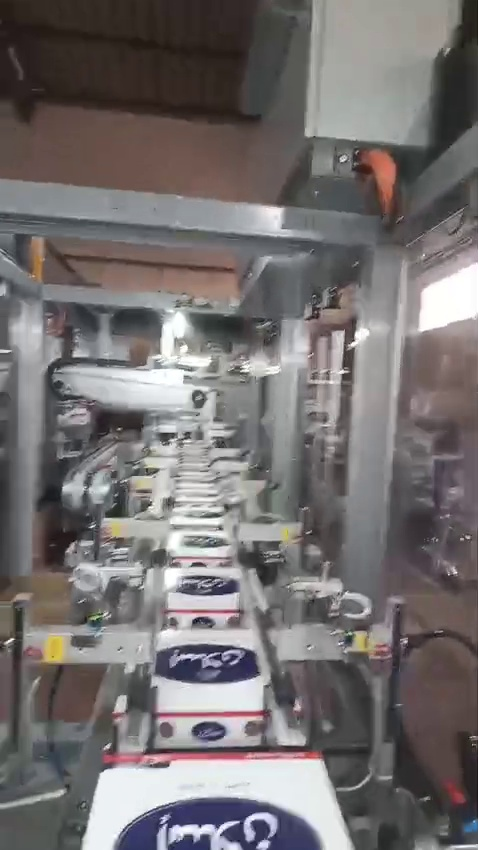savon: (19, 0, 132, 34), (45, 43, 122, 92), (0, 575, 70, 625), (38, 635, 96, 694), (28, 240, 56, 282), (160, 57, 201, 81), (187, 284, 239, 298), (12, 127, 33, 161), (417, 590, 433, 628), (0, 609, 17, 641), (355, 634, 378, 656), (135, 0, 148, 38), (0, 100, 24, 120), (86, 260, 106, 280), (153, 0, 163, 40), (160, 176, 184, 192), (460, 731, 478, 752), (173, 16, 185, 43), (107, 523, 124, 542), (138, 52, 152, 74), (205, 69, 215, 96), (233, 74, 240, 111), (281, 528, 298, 543), (112, 127, 136, 136)
